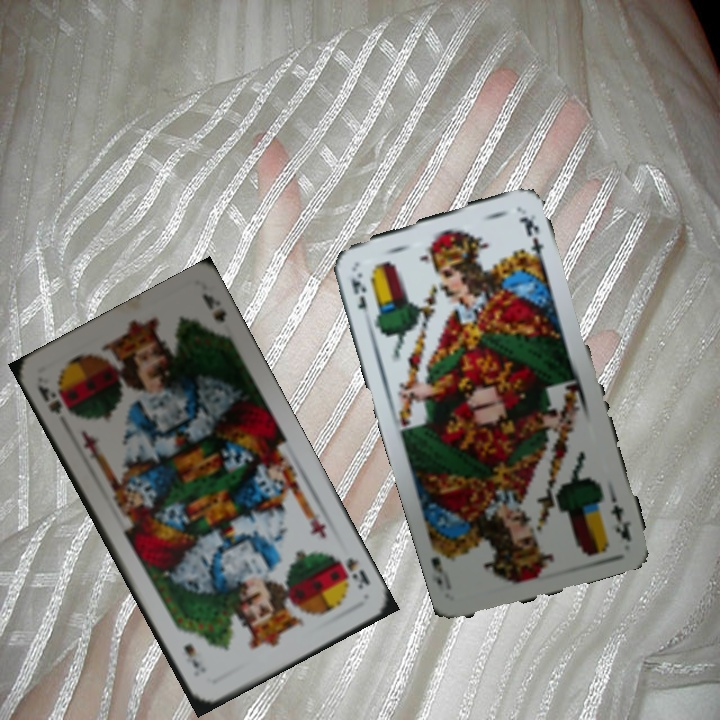EK: (605, 487, 634, 544), (347, 268, 370, 313)
SK: (33, 381, 74, 419), (342, 553, 373, 592)
